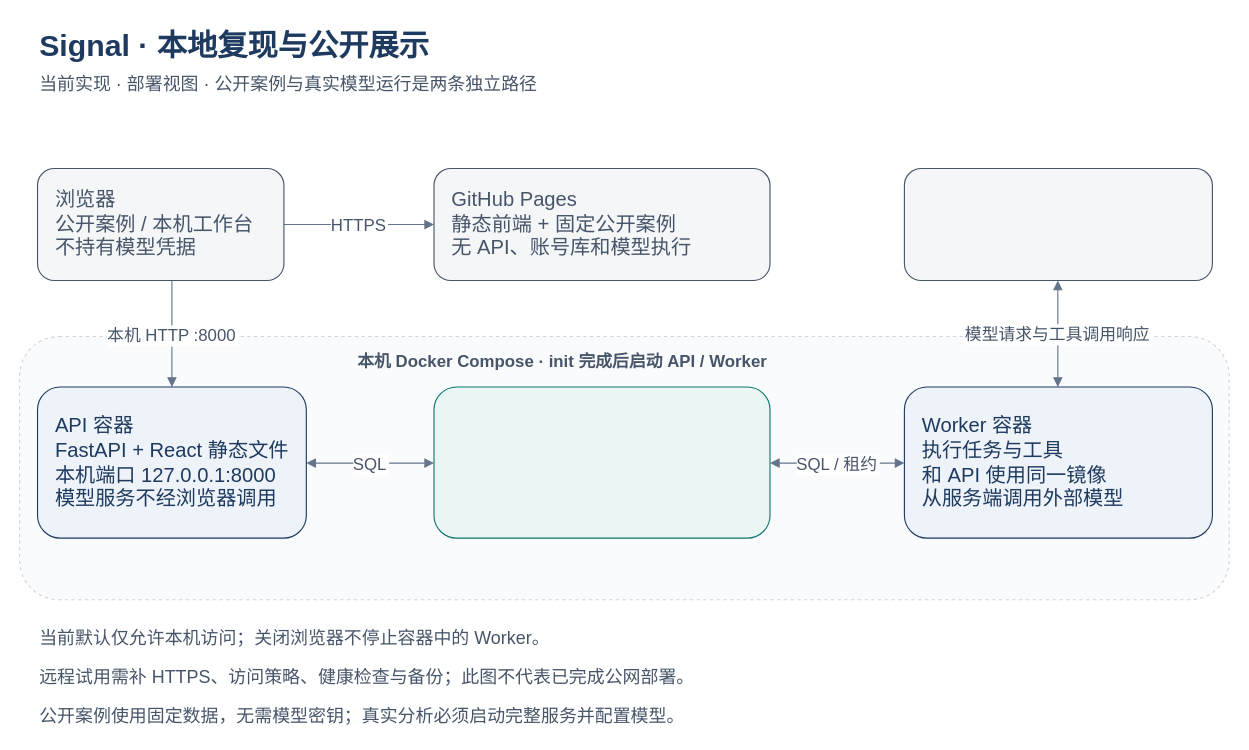
The diagram is 1249 pixels wide and 750 high, and some of its shapes have lost their labels. Each missing label, with the box of its shape:
PostgreSQL 容器 内部网络端口 5432 命名卷 postgres 未映射主机数据库端口: (433, 386, 770, 538)
外部模型 API 仅 live 模式请求 本机无需 GPU: (903, 167, 1212, 281)
